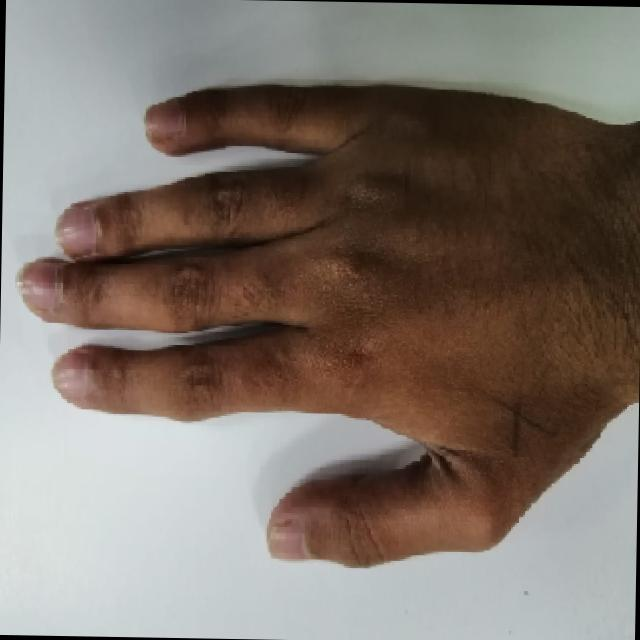Nail: (17, 259, 59, 309), (55, 206, 96, 256), (145, 96, 185, 143), (266, 518, 310, 559), (52, 351, 89, 396)
